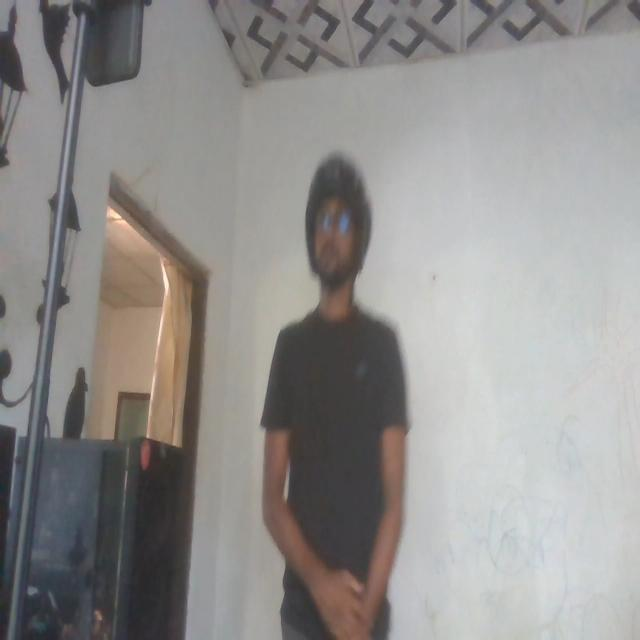Helmet_Wearer: (297, 136, 373, 309)
Person: (257, 130, 413, 640)
